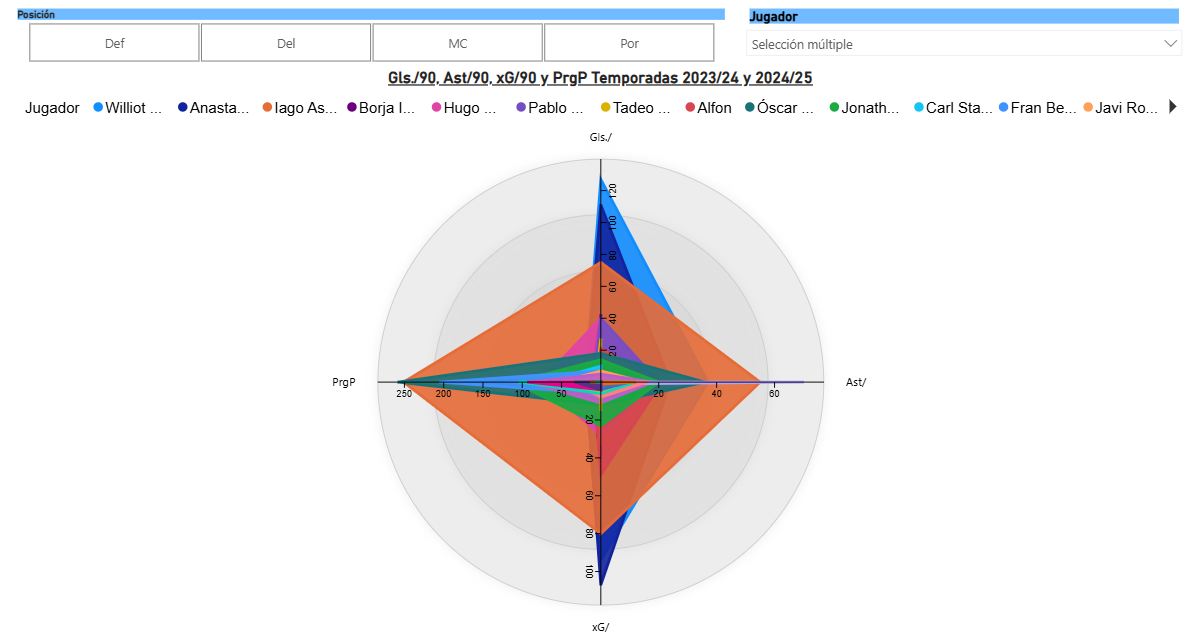

Layout of this report page (visuals, bound fields, positions):
{"tool":"powerbi","page":{"name":"RadarChart Jugadores","canvas":[1280,720],"ordinal":4},"visuals":[{"type":"radarChart5F59D098BB90499F8C33EBEBCEE4FEBF","title":"Gls./90, Ast/90, xG/90 y PrgP Temporadas 2023/24 y 2024/25","fields":{"category":["Jugadores Anexados.Jugador"],"measure":["Sum(Jugadores Anexados.Gls./90)","Sum(Jugadores Anexados.Ast/90)","Sum(Jugadores Anexados.xG/90)","Sum(Jugadores Anexados.PrgP)"]},"box":[25.4,79.5,1231.1,617.2],"z":0},{"type":"slicer","fields":{"Values":["Jugadores Anexados.Jugador"]},"box":[785.8,11.1,482,68.4],"z":1000},{"type":"slicer","fields":{"Values":["Jugadores Anexados.posición agrupada"]},"box":[9.5,11.1,776.2,68.4],"z":2000}]}

Visuals, with their boxes on the page's 1280x720 design canvas (x1, y1, x2, y2). These are canvas units, not pixel positions in the 1193x639 screenshot, which may show the page scaled, cropped or inside an application window:
"Gls./90, Ast/90, xG/90 y PrgP Temporadas 2023/24 y 2024/25" radarChart5F59D098BB90499F8C33EBEBCEE4FEBF: 25, 80, 1256, 697
slicer - Jugadores Anexados.Jugador: 786, 11, 1268, 80
slicer - Jugadores Anexados.posición agrupada: 10, 11, 786, 80
